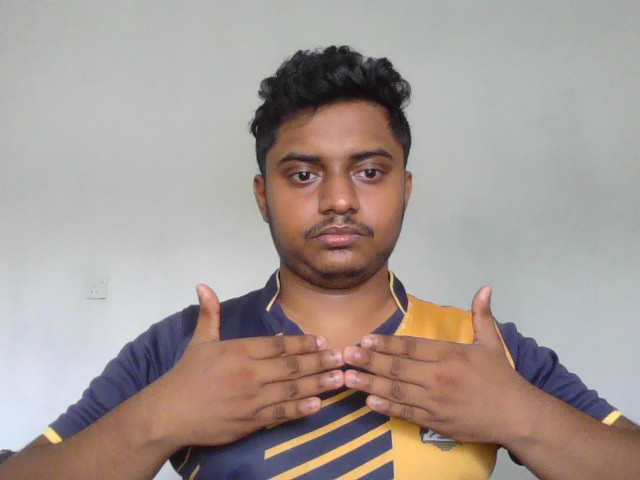Thank You: (157, 279, 529, 461)
